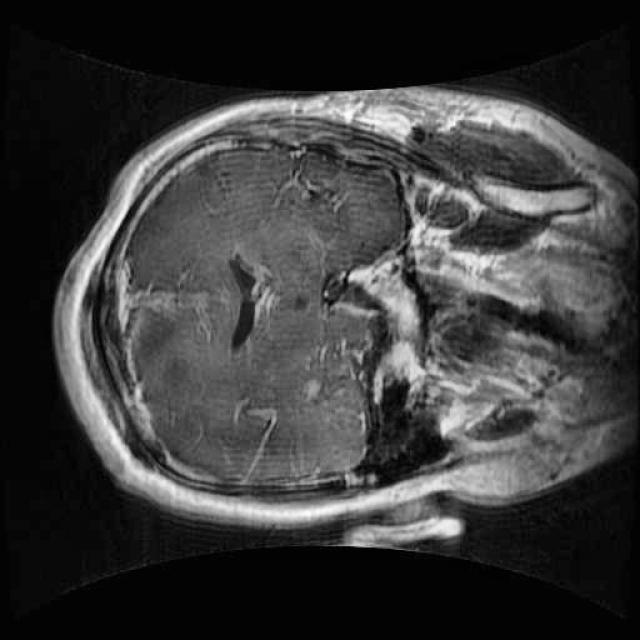Non-Tumor: (110, 284, 190, 394)
